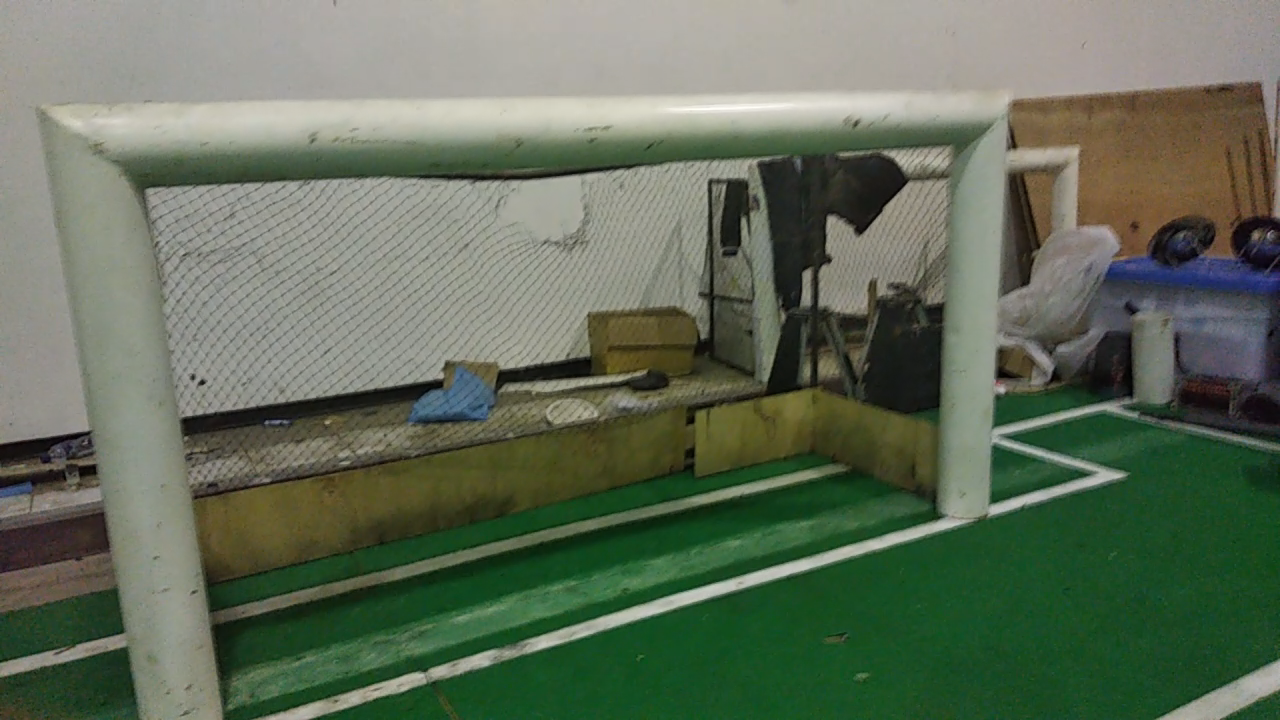gawang: (22, 52, 1022, 712)
